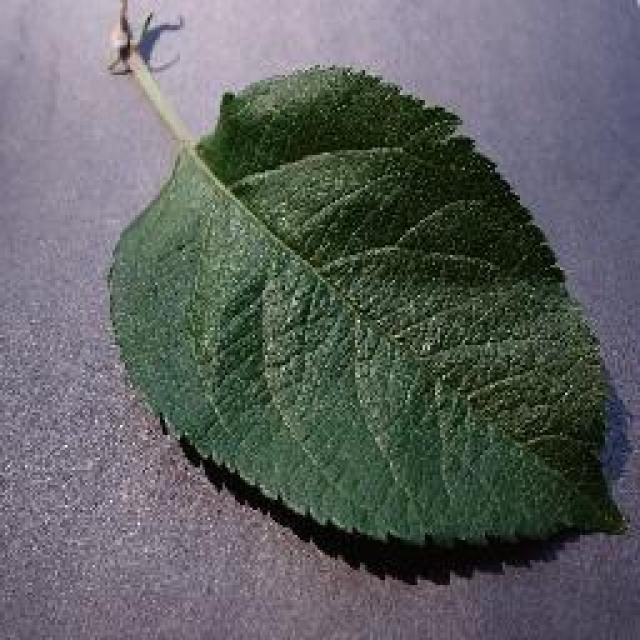apple scab disease: (100, 0, 630, 555)
